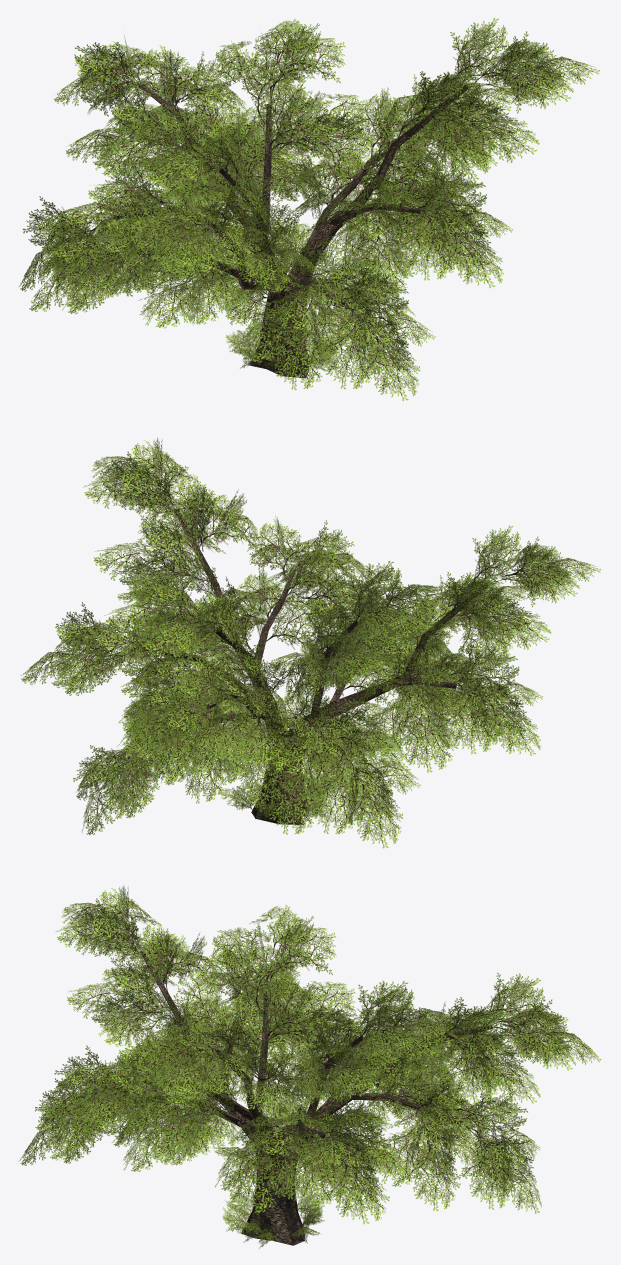
The model's file is tree900.glb.
3 renders of one model, top to bottom at view 1: azimuth 30°, elevation 25°; view 2: azimuth 150°, elevation 25°; view 3: azimuth 270°, elevation 25°, orthographic. The views are drawn at different scales.
Parts seen in each view (by area): view 1: tree900-col; view 2: tree900-col; view 3: tree900-col.
Part boxes in pixels (x1,y1,x2,y2): tree900-col: (19,18,599,401); tree900-col: (21,437,600,848); tree900-col: (18,885,601,1248).
Size of the model in its own units: 69.91 by 40.83 by 71.23.
2 materials, 2 textured.
